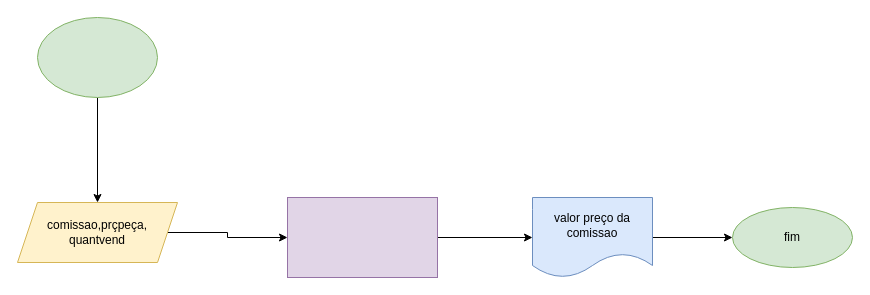
Some shapes in this 870 by 295 pixel diagram are drawn without their labels. Each missing label, with the centre of its shape:
"(prçpeça*quantvend)/100*5" goes at point (362, 237).
"Início" goes at point (97, 57).
